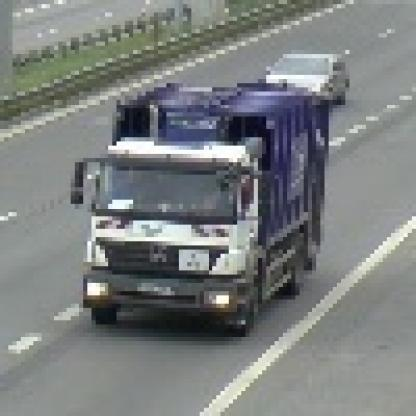truck: (64, 72, 330, 330)
